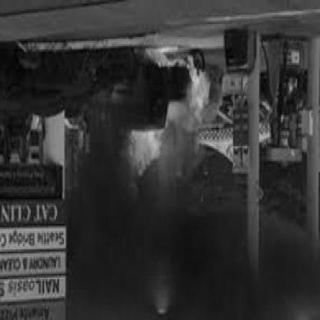Fire: (121, 41, 213, 180)
Smoke: (84, 195, 198, 312)
